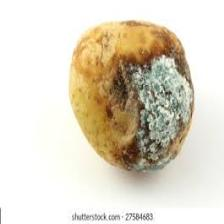Damaged potato: (71, 19, 203, 176)
